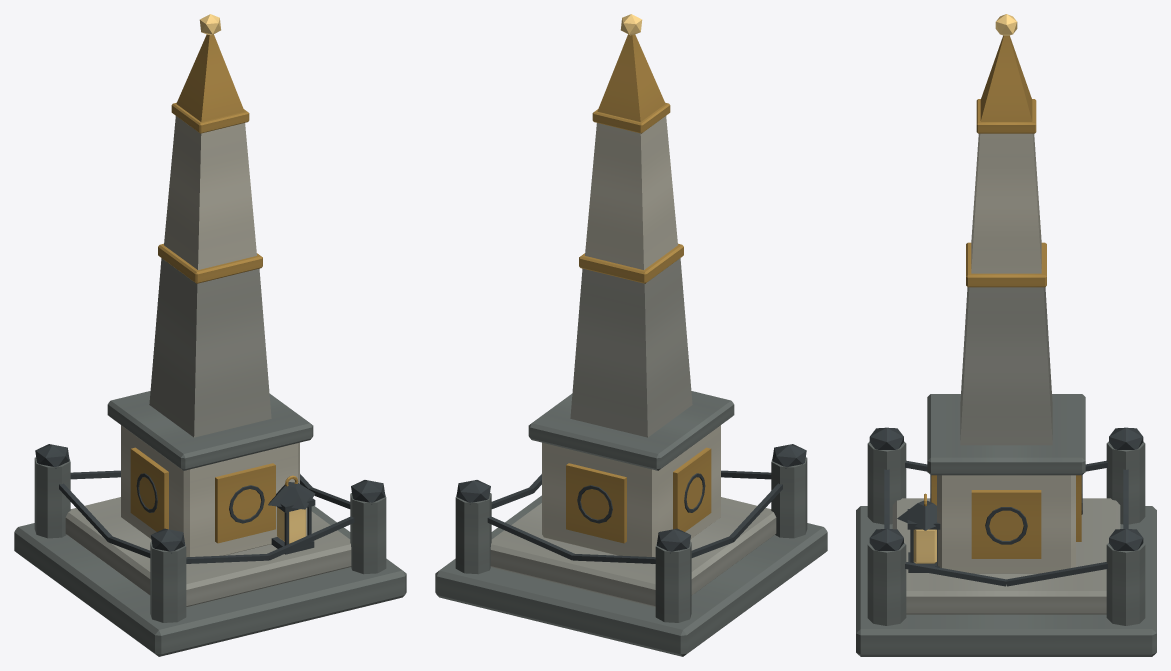
The model's file is boundary_obelisk.glb.
3 renders of one model, left to right at view 1: azimuth 30°, elevation 25°; view 2: azimuth 150°, elevation 25°; view 3: azimuth 270°, elevation 25°, orthographic. The views are drawn at different scales.
Visible parts, largest first — view 1: boundary_obelisk; view 2: boundary_obelisk; view 3: boundary_obelisk.
Boxes of the visible parts, box(x1,y1,x2,y2) form: boundary_obelisk: box(14, 14, 406, 656); boundary_obelisk: box(435, 14, 827, 656); boundary_obelisk: box(856, 14, 1156, 656).
Size of the model in its own units: 1.56 by 3.33 by 1.56.
1 material, 1 textured.
